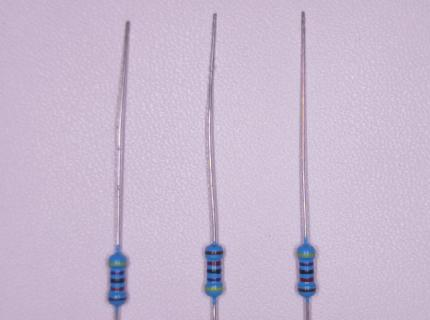Black band: (299, 269, 314, 274), (111, 278, 125, 283), (207, 269, 221, 274)
Brown band: (298, 287, 316, 293), (109, 297, 127, 301), (205, 251, 223, 255)
Red band: (110, 286, 125, 291), (207, 261, 221, 266), (300, 277, 314, 282)
Violet band: (299, 262, 314, 266), (111, 271, 125, 275), (208, 278, 221, 281)
Yellow band: (205, 287, 223, 291), (297, 253, 315, 257), (109, 262, 127, 265)
